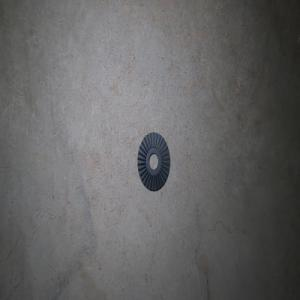Washer: (137, 132, 170, 191)
